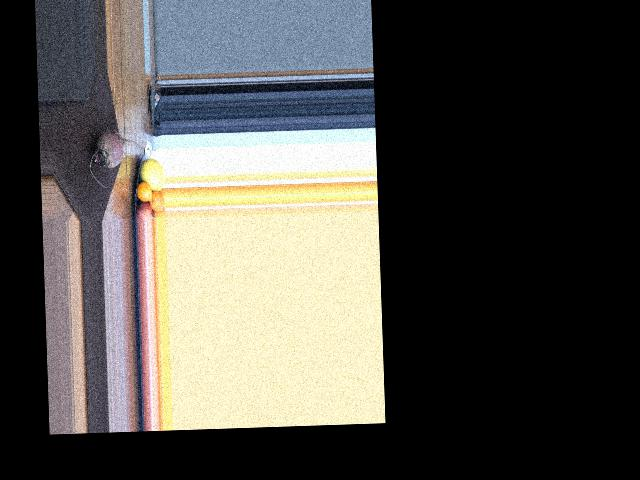beet: (88, 128, 141, 188)
